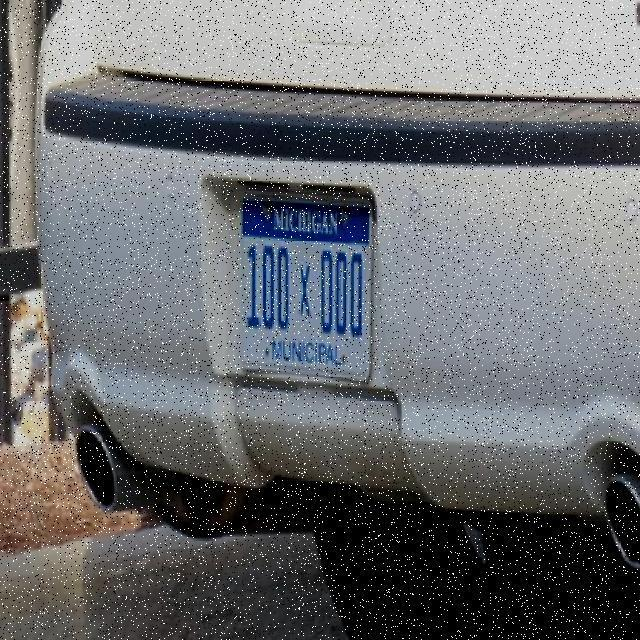LicensePlate: (238, 191, 371, 382)
